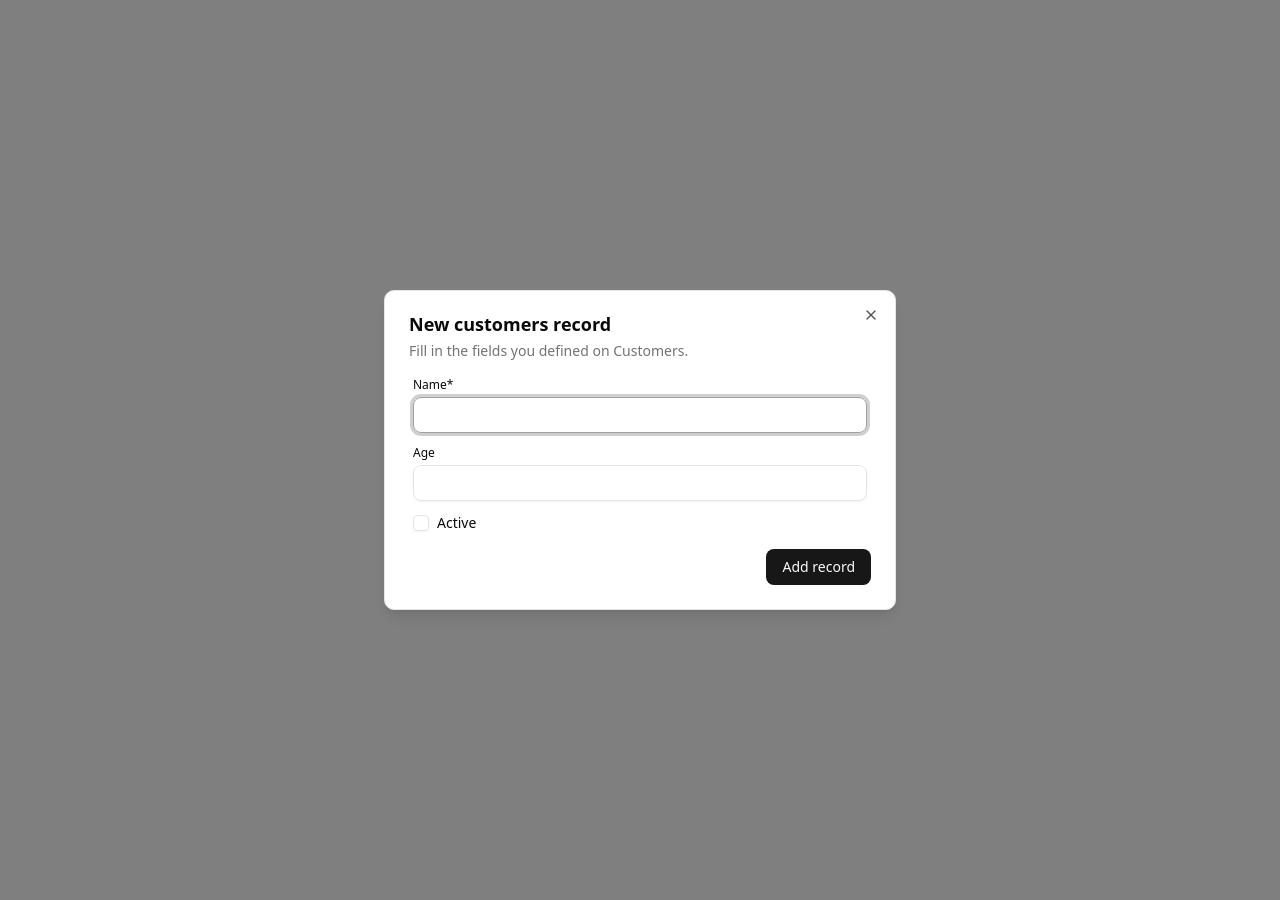
Test: RecordDialog › catches a blank required field before the request, naming it
Type "36" into the number field labelled "Age" at (640, 483), box [413,465,867,501]
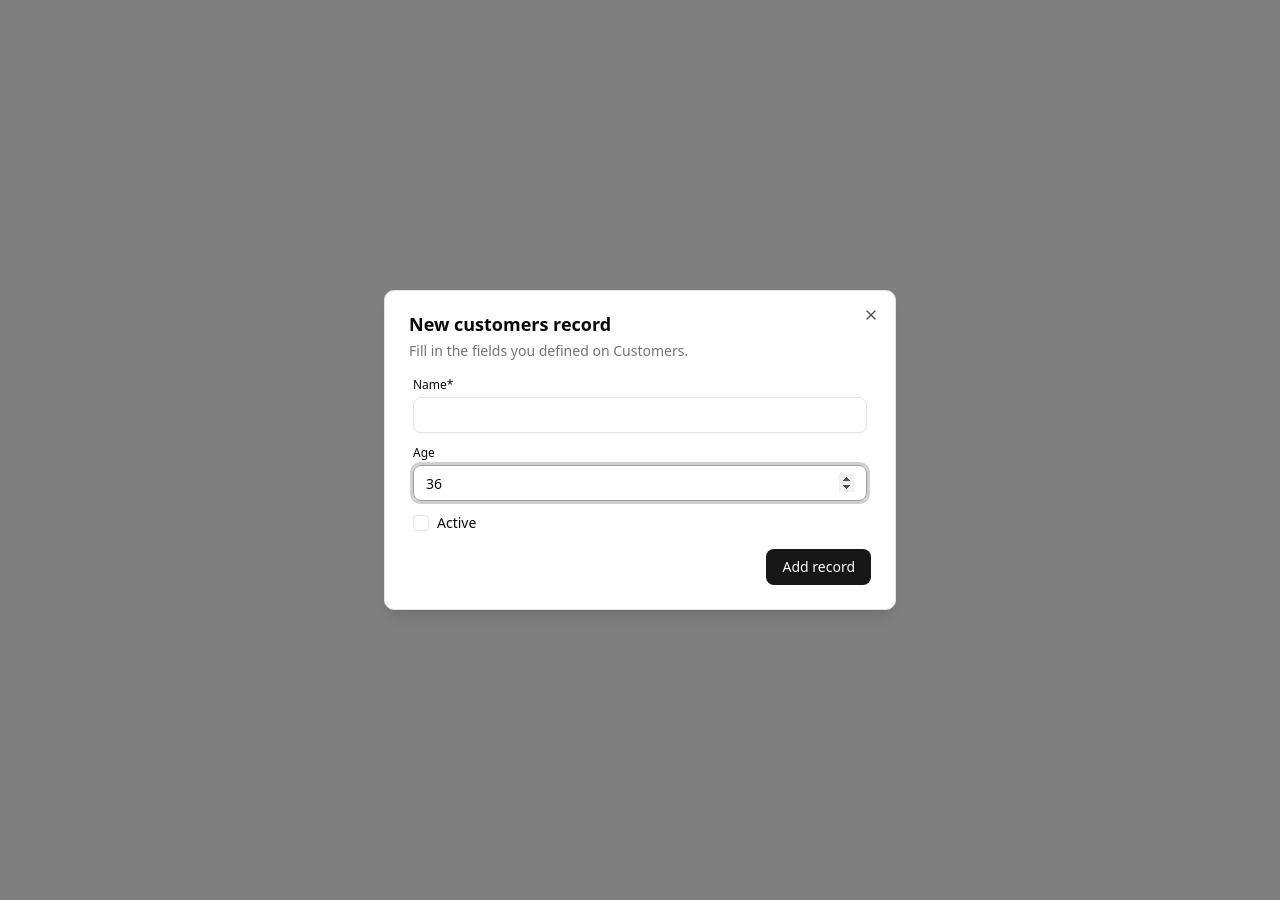
Click the button "Add record" at (819, 567), box [766,549,871,585]
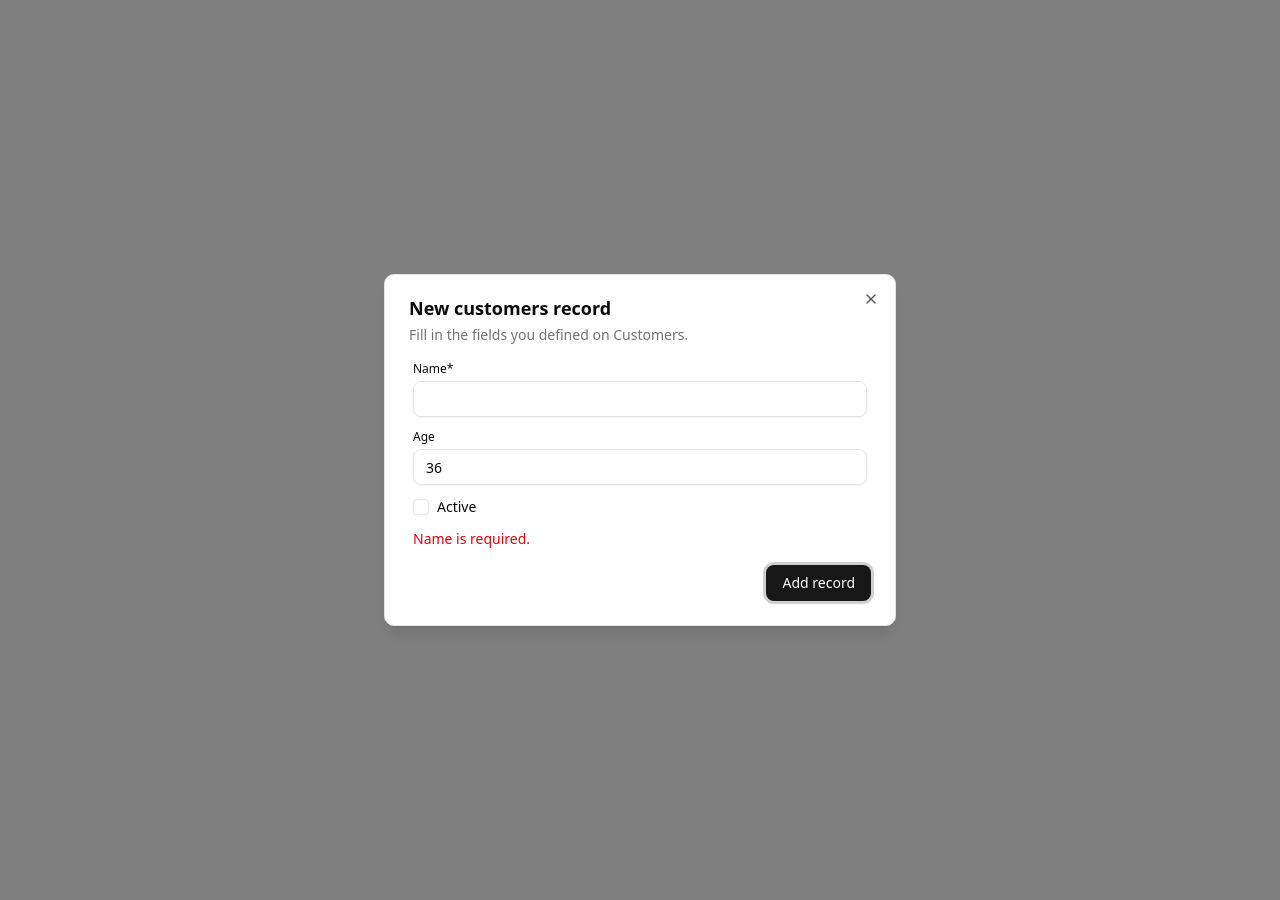
Expected: the message reads "Name is required.", [413,529,530,548]
